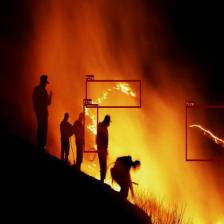fire: (185, 105, 224, 160), (86, 80, 140, 107), (83, 104, 98, 152)
